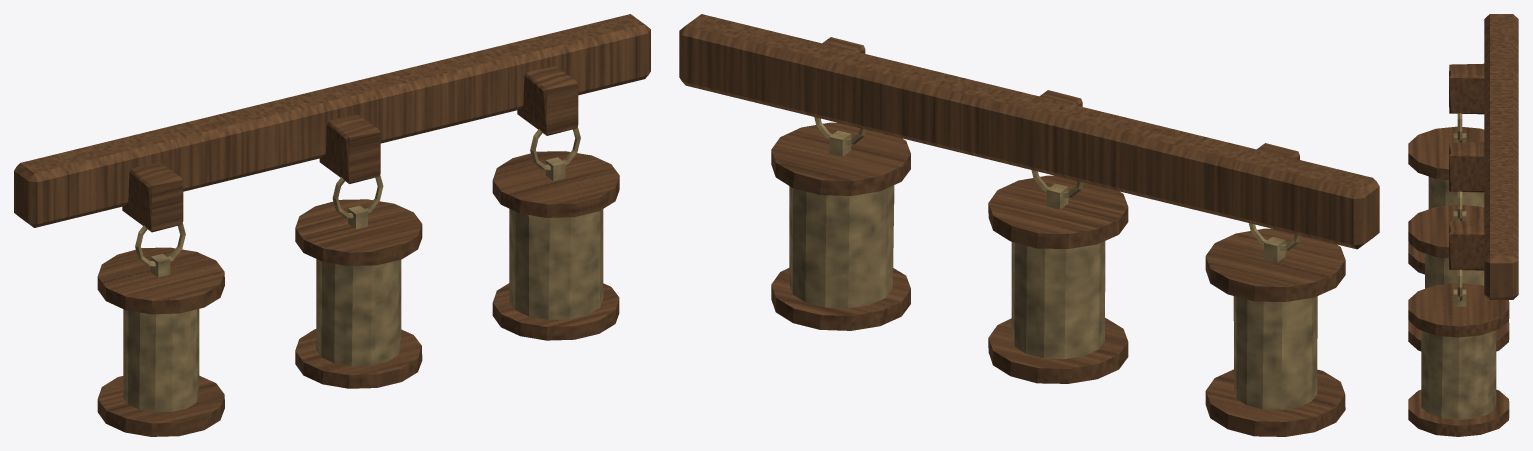
The model's file is HangingMandrels_LOD1.fbx.
The picture shows the model from 3 angles, left to right: view 1: azimuth 30°, elevation 25°; view 2: azimuth 150°, elevation 25°; view 3: azimuth 270°, elevation 25°; orthographic projection. The views are drawn at different scales.
Visible parts, largest first — view 1: HangingMandrels.001; view 2: HangingMandrels.001; view 3: HangingMandrels.001.
Part boxes in pixels (<box>): HangingMandrels.001: <box>14,14,650,436</box>; HangingMandrels.001: <box>679,14,1379,436</box>; HangingMandrels.001: <box>1408,14,1518,436</box>.
Size of the model in its own units: 0.93 by 0.3566 by 0.176.
1 material, 1 textured.
